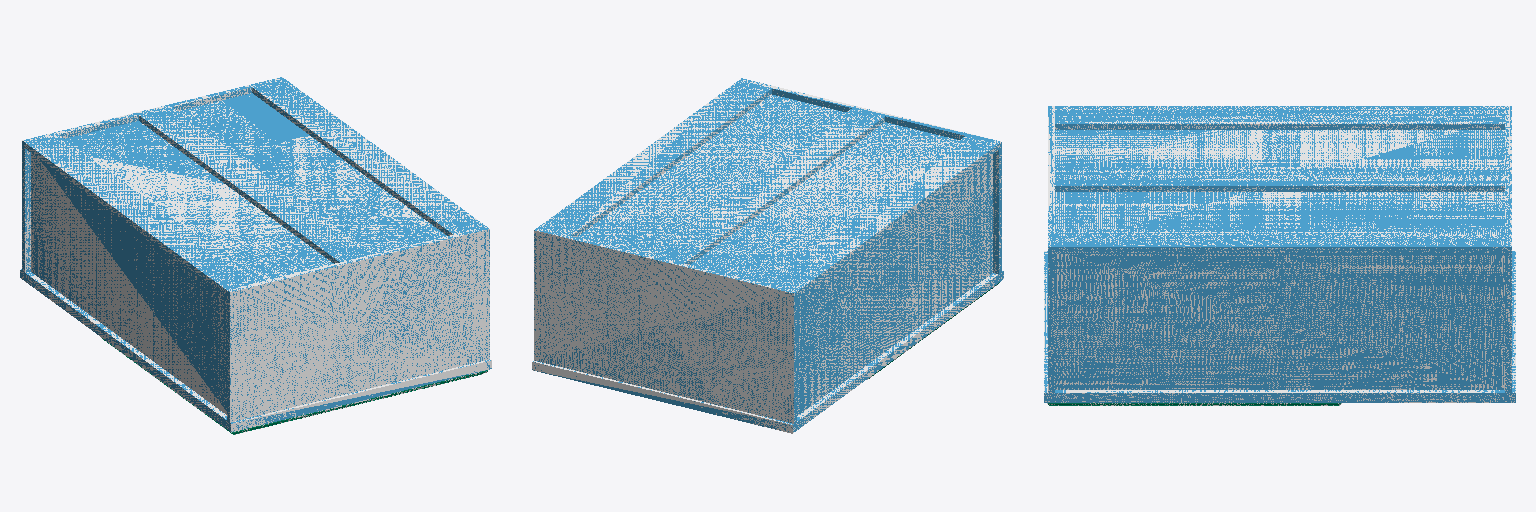
The robot description file, URDF, robot "right-pull-door":
<?xml version="1.0" ?>
<robot name="right-pull-door">
	<link name="base"/>
	<link name="link_0">
		<visual name="out-frame">
			<origin xyz="0 0 0"/>
			<geometry>
				<mesh filename="texture_dae/frame.dae" scale="0.8 0.8 0.8"/>
			</geometry>
		</visual>
		<collision>
			<origin xyz="0 0 0"/>
			<geometry>
				<mesh filename="texture_dae/frame.dae" scale="0.8 0.8 0.8"/>
			</geometry>
		</collision>
	</link>
	<joint name="joint_0" type="fixed">
		<origin rpy="1.570796326794897 0 -1.570796326794897" xyz="0 0 0"/>
		<child link="link_0"/>
		<parent link="base"/>
	</joint>
	<link name="link_1">
		<visual name="surf-board">
			<origin xyz="0.7546202540397644 -0.36378433823262524 0"/>
			<geometry>
				<mesh filename="texture_dae/board.dae" scale="0.8 0.8 0.8"/>
			</geometry>
		</visual>
		<collision>
			<origin xyz="0.7546202540397644 -0.36378433823262524 0"/>
			<geometry>
				<mesh filename="texture_dae/board.dae" scale="0.8 0.8 0.8"/>
			</geometry>
		</collision>
	</link>
	<joint name="joint_1" type="revolute">
		<origin xyz="-0.7546202540397644 0.36378433823262524 0"/>
		<axis xyz="0 -1 0"/>
		<child link="link_1"/>
		<parent link="link_0"/>
		<limit lower="0" upper="1.5079644737231006"/>
	</joint>
	<link name="link_2">
		<visual name="handle">
			<origin xyz="0 0 0"/>
			<geometry>
				<mesh filename="texture_dae/9962009.dae" scale="0.9531975008213476 0.9531975008213476 0.9531975008213476"/>
			</geometry>
		</visual>
		<collision>
			<origin xyz="0 0 0"/>
			<geometry>
				<mesh filename="texture_dae/9962009.dae" scale="0.9531975008213476 0.9531975008213476 0.9531975008213476"/>
			</geometry>
		</collision>
	</link>
	<joint name="joint_2" type="revolute">
		<origin xyz="0.7546202540397644 -0.36378433823262524 0.01424602855875029"/>
		<child link="link_2"/>
		<parent link="link_1"/>
		<axis xyz="0 0 1"/>
		<limit lower="0" upper="1.5079644737231006"/>
	</joint>
</robot>

--- Render facts (derived) ---
3 views of the same robot in one strip: view 1: azimuth 30°, elevation 25°; view 2: azimuth 150°, elevation 25°; view 3: azimuth 270°, elevation 25° (orthographic).
Model right-pull-door with 4 links and 3 joints (2 revolute, 1 fixed), rooted at base, posed all joints at 0.
Links seen in each view (by area): view 1: link_0, link_1; view 2: link_0; view 3: link_0, link_1.
Boxes of the visible links, x1,y1,x2,y2 form: link_0: (20, 77, 491, 432); link_1: (102, 338, 487, 434); link_0: (532, 78, 1003, 433); link_0: (1044, 106, 1515, 402); link_1: (1047, 403, 1341, 405).
Size in the robot's own frame: 0.9082 by 1.28 by 0.4835 metres.
Meshes: 3 distinct files referenced, 2 mesh visuals loaded (2 Collada DAE); not drawn: 1 (reference not matched to a file when rendering).
